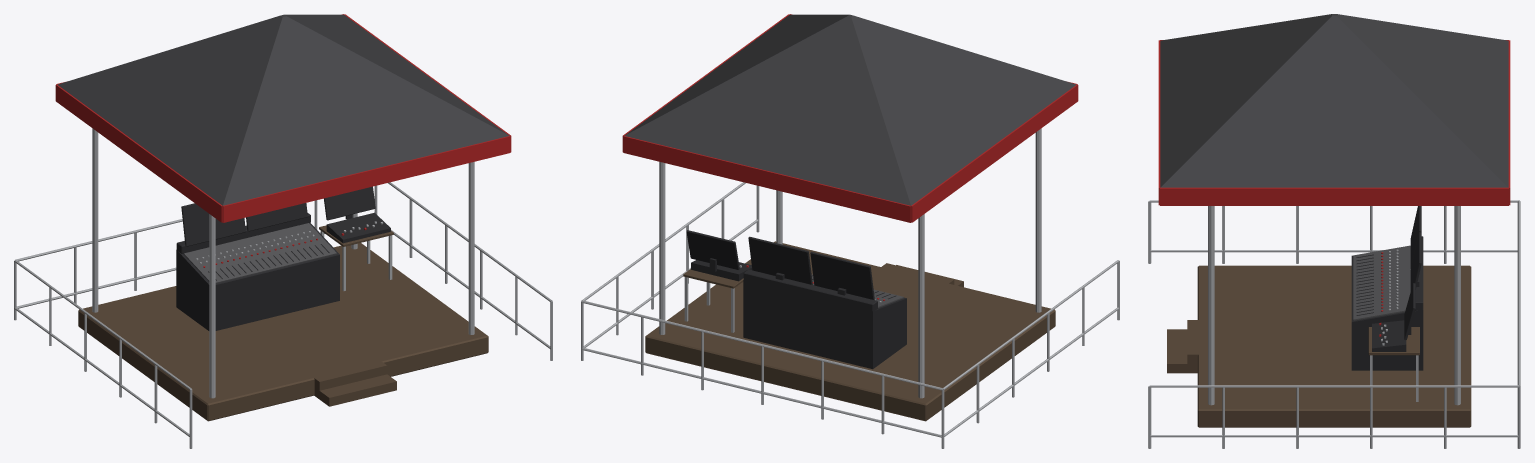
The model's file is foh.glb.
3 renders of one model, left to right at view 1: azimuth 30°, elevation 25°; view 2: azimuth 150°, elevation 25°; view 3: azimuth 270°, elevation 25°, orthographic. The views are drawn at different scales.
Parts seen in each view (by area): view 1: foh_roof, foh_base, foh_desk; view 2: foh_roof, foh_base, foh_desk; view 3: foh_roof, foh_base, foh_desk.
Boxes of the visible parts, left/top/right/bottom form: foh_roof: left=55, top=14, right=511, bottom=222; foh_base: left=14, top=128, right=552, bottom=448; foh_desk: left=176, top=186, right=393, bottom=330; foh_roof: left=622, top=14, right=1078, bottom=222; foh_base: left=581, top=128, right=1119, bottom=448; foh_desk: left=683, top=230, right=906, bottom=369; foh_roof: left=1158, top=14, right=1510, bottom=205; foh_base: left=1148, top=200, right=1520, bottom=448; foh_desk: left=1351, top=206, right=1423, bottom=401.
Bounding box in the file's own units: 6.43 × 5.5 × 5.44.
